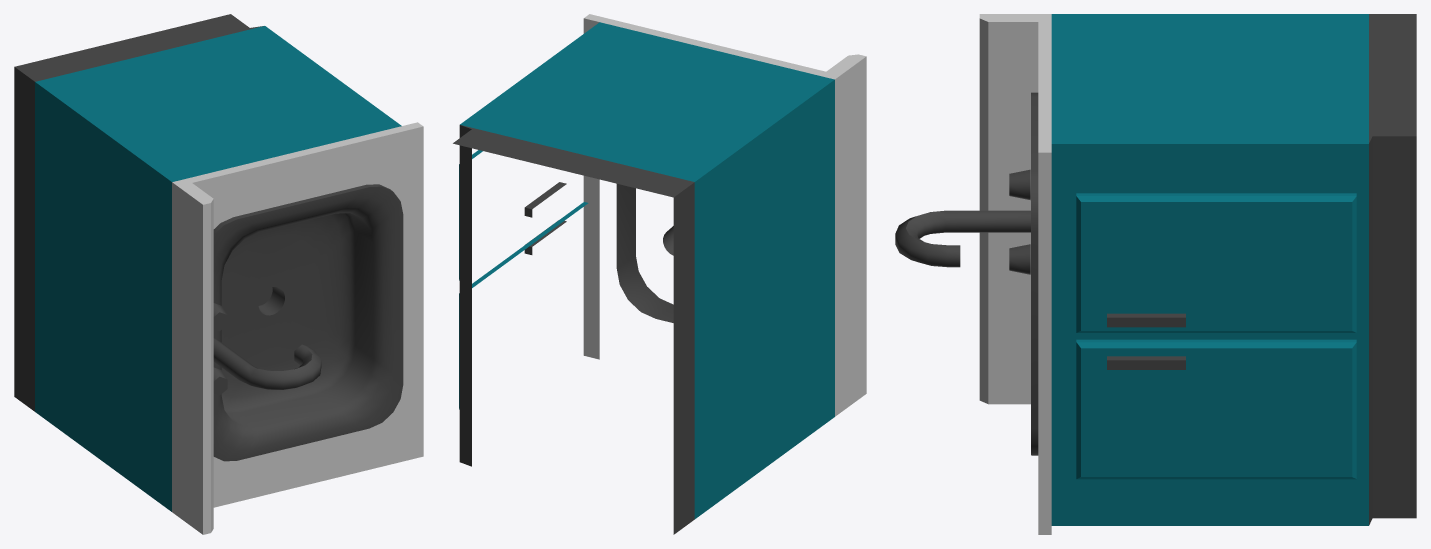
File: kitchen_sink.glb
The picture shows the model from 3 angles, left to right: view 1: azimuth 30°, elevation 25°; view 2: azimuth 150°, elevation 25°; view 3: azimuth 270°, elevation 25°; orthographic projection. The views are drawn at different scales.
Parts seen in each view (by area): view 1: kitchen_sink; view 2: kitchen_sink; view 3: kitchen_sink.
Part boxes in pixels (<box>): kitchen_sink: <box>14,14,423,534</box>; kitchen_sink: <box>453,14,866,534</box>; kitchen_sink: <box>895,14,1416,534</box>.
Bounding box in the file's own units: 0.9489 × 1.22 × 1.51.
